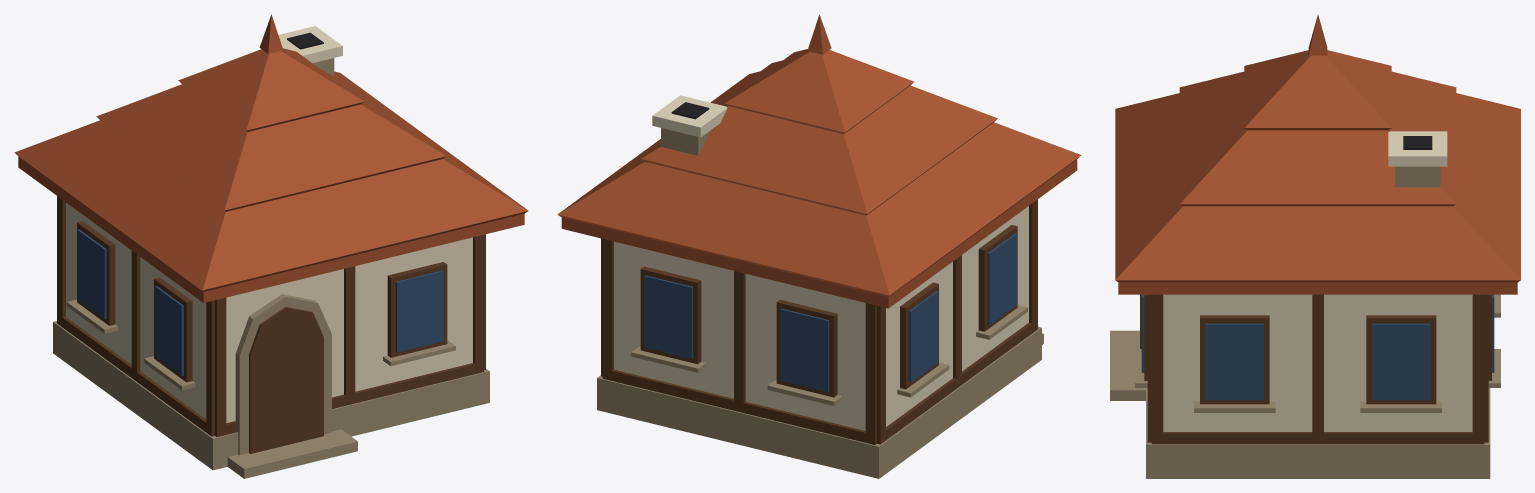
The model's file is House_08_Hut.fbx.
The picture shows the model from 3 angles, left to right: view 1: azimuth 30°, elevation 25°; view 2: azimuth 150°, elevation 25°; view 3: azimuth 270°, elevation 25°; orthographic projection. The views are drawn at different scales.
Visible parts, largest first — view 1: House_08_Hut; view 2: House_08_Hut; view 3: House_08_Hut.
Boxes of the visible parts, left/top/right/bottom form: House_08_Hut: left=14, top=14, right=528, bottom=478; House_08_Hut: left=557, top=14, right=1081, bottom=478; House_08_Hut: left=1110, top=14, right=1520, bottom=478.
Bounding box in the file's own units: 4.88 × 5.2 × 4.94.
